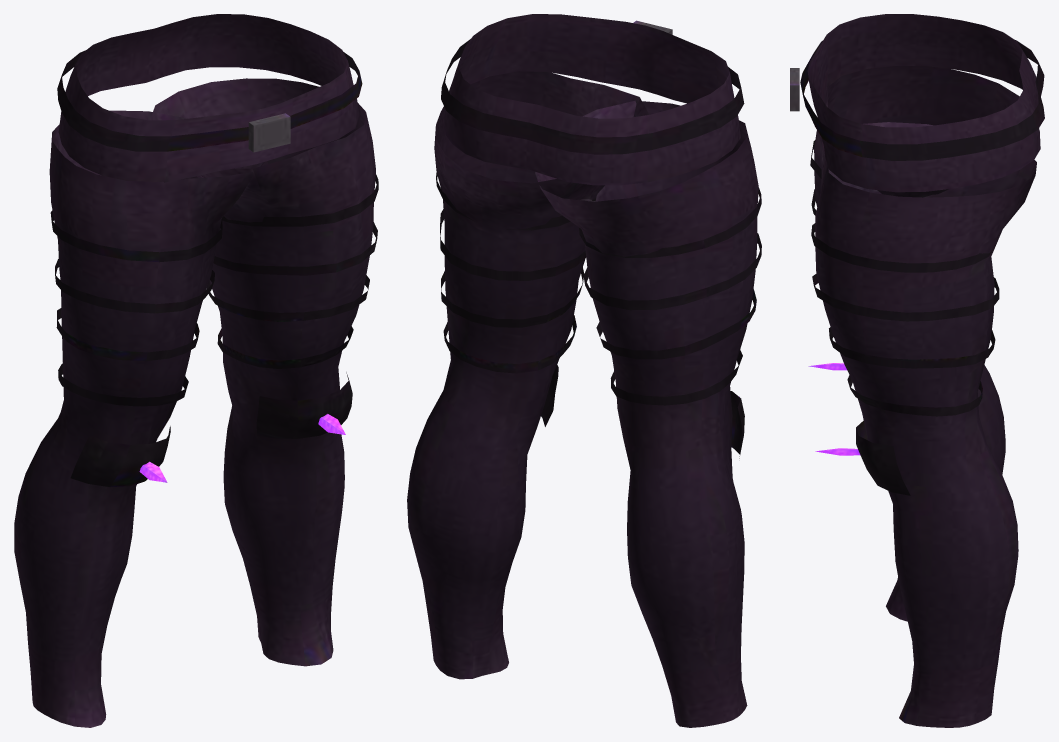
Rendered from Calça_do_Assassino_nivel100.glb.
3 renders of one model, left to right at view 1: azimuth 30°, elevation 25°; view 2: azimuth 150°, elevation 25°; view 3: azimuth 270°, elevation 25°, orthographic. The views are drawn at different scales.
Parts seen in each view (by area): view 1: calca_do_assassino_nivel100; view 2: calca_do_assassino_nivel100; view 3: calca_do_assassino_nivel100.
Part boxes in pixels (x1=…): calca_do_assassino_nivel100: x1=14, y1=14, x2=378, y2=727; calca_do_assassino_nivel100: x1=407, y1=14, x2=761, y2=727; calca_do_assassino_nivel100: x1=790, y1=14, x2=1044, y2=727.
Size of the model in its own units: 0.4424 by 0.8351 by 0.321.
Materials: 1 (1 with a texture image).
